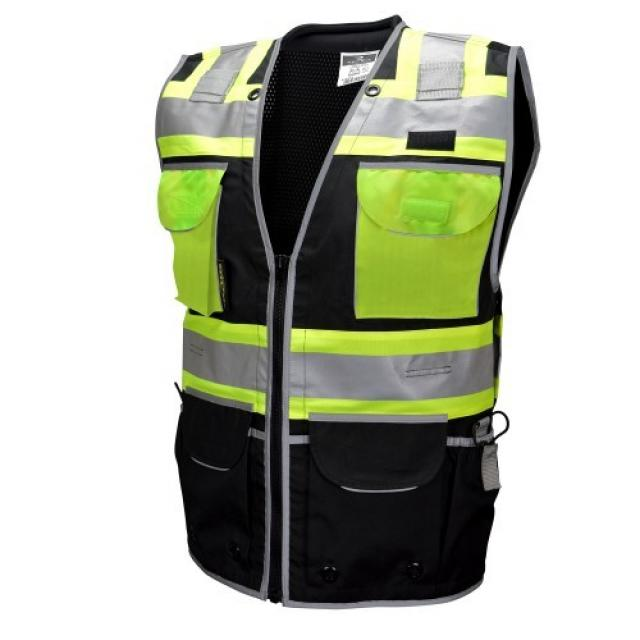Reflective-Jacket: (130, 14, 556, 453)
